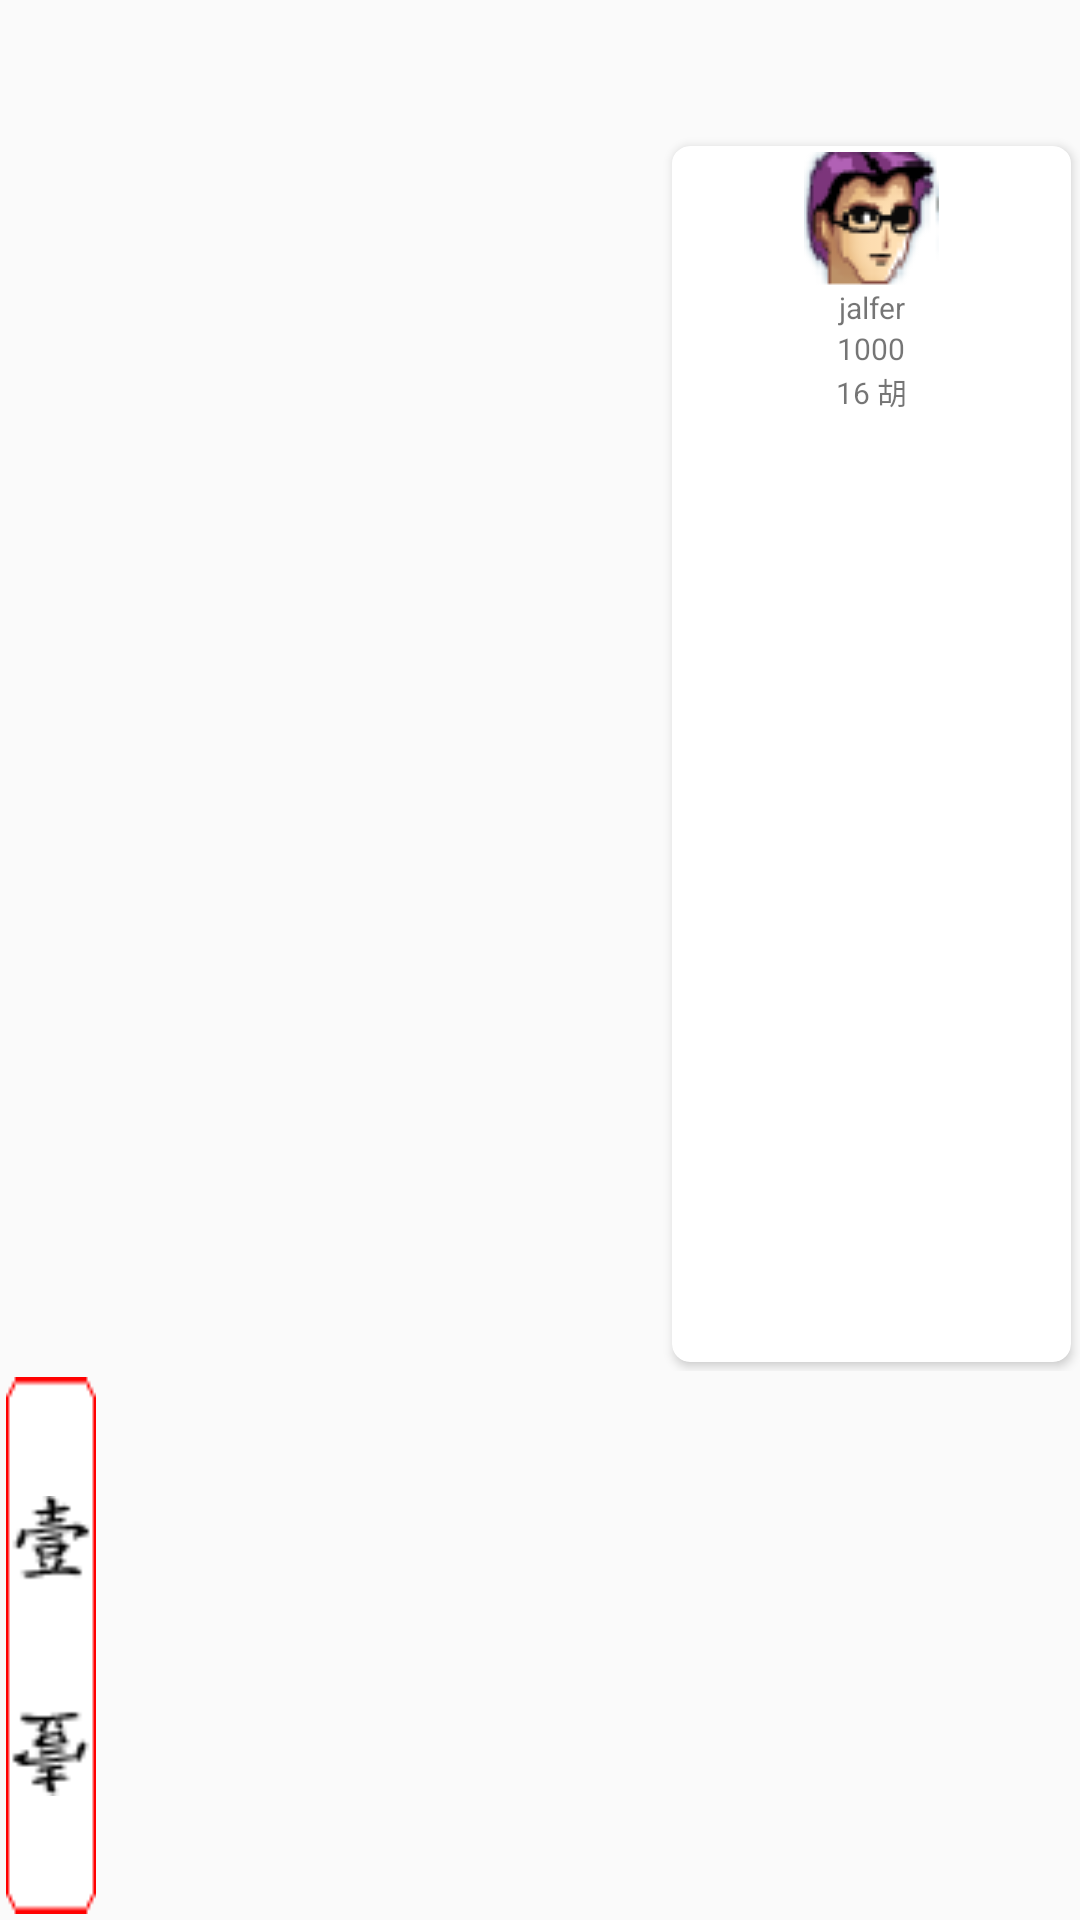

Icon click points for this 1080px x 1920px phone screenshot, format (x=x, y=y):
head: (x=937, y=218)
